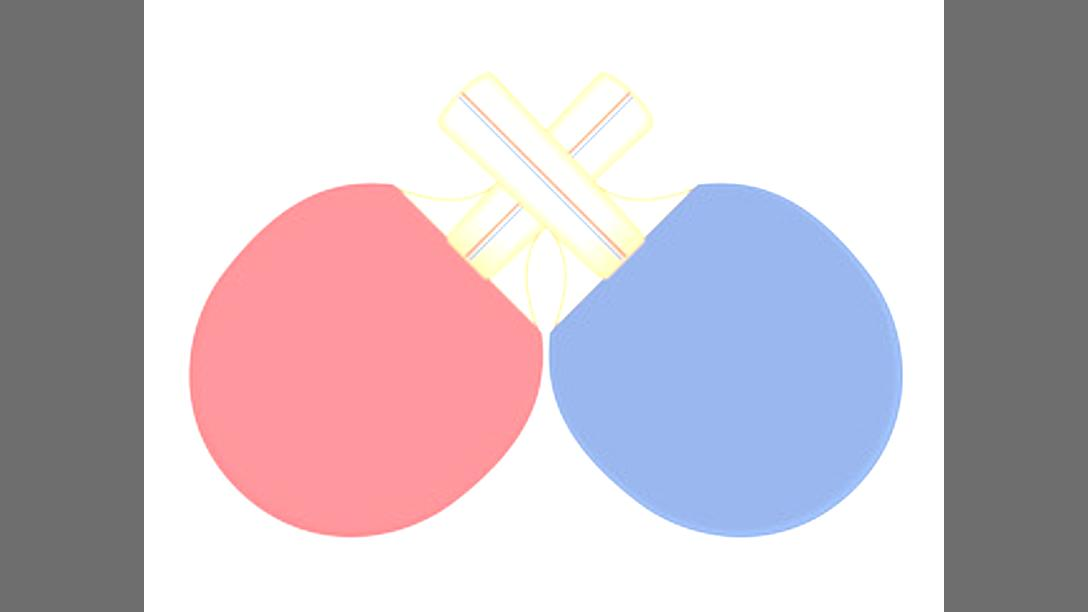Table-Tennis-Ball: (496, 472, 594, 570)
